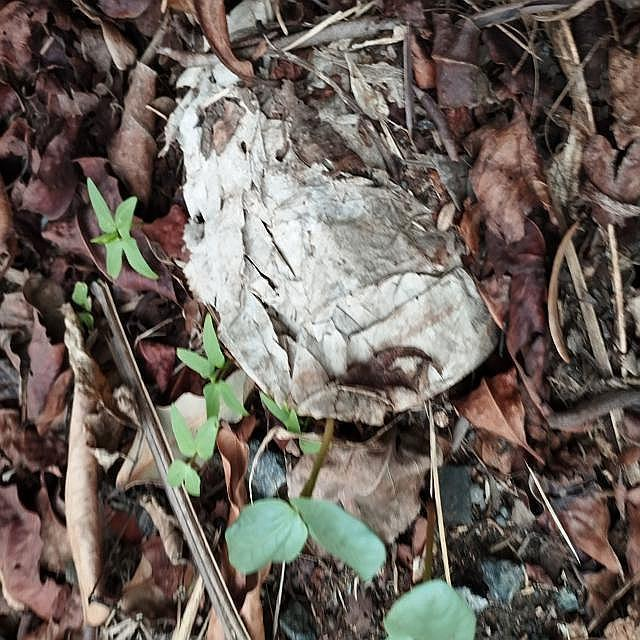Biodegradable: (187, 84, 488, 413)
